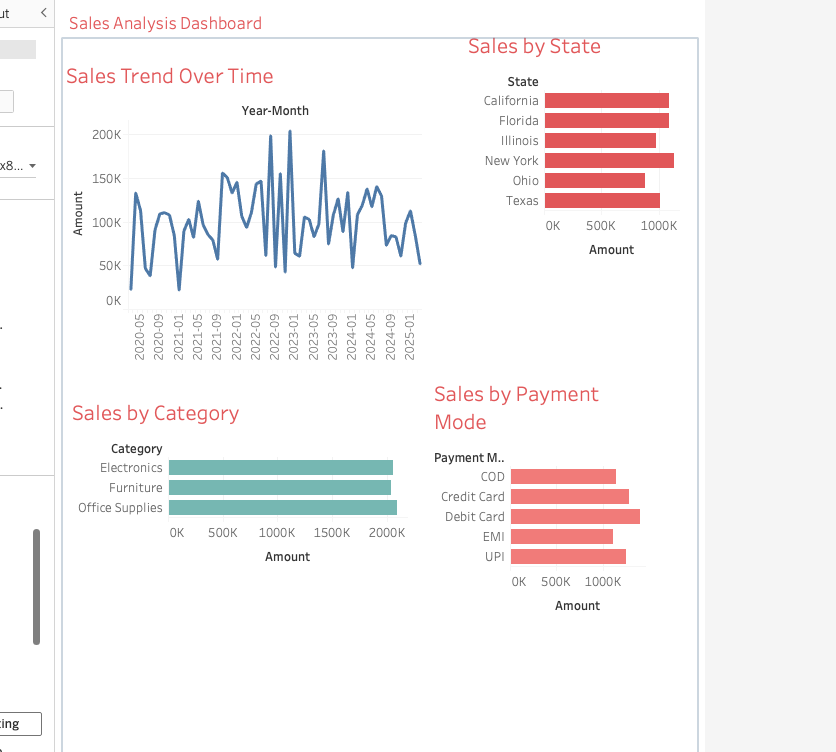

Layout of this report page (visuals, bound fields, positions):
{"tool":"tableau","page":{"name":"Sales Analysis Dashboard","canvas":[650,860],"ordinal":0},"visuals":[{"type":"title","box":[8,12,634,48.1]},{"type":"worksheet","title":"Sales by State","mark":"Automatic","rows":["State"],"cols":["Amount"],"box":[409,31.6,216,395.4]},{"type":"worksheet","title":"Sales Trend Over Time","mark":"Line","rows":["Amount"],"cols":["Year-Month"],"box":[7,64.6,360,348.8]},{"type":"worksheet","title":"Sales by Payment Mode","mark":"Automatic","rows":["PaymentMode"],"cols":["Amount"],"box":[375,421,216,418]},{"type":"worksheet","title":"Sales by Category","mark":"Bar","rows":["Category"],"cols":["Amount"],"box":[13,442,340,338.3]}]}

Visuals, with their boxes on the page's 650x860 design canvas (x1, y1, x2, y2). These are canvas units, not pixel positions in the 836x752 screenshot, which may show the page scaled, cropped or inside an application window:
title: Rect(8, 12, 642, 60)
"Sales by State" worksheet: Rect(409, 32, 625, 427)
"Sales Trend Over Time" worksheet (Line marks): Rect(7, 65, 367, 413)
"Sales by Payment Mode" worksheet: Rect(375, 421, 591, 839)
"Sales by Category" worksheet (Bar marks): Rect(13, 442, 353, 780)
